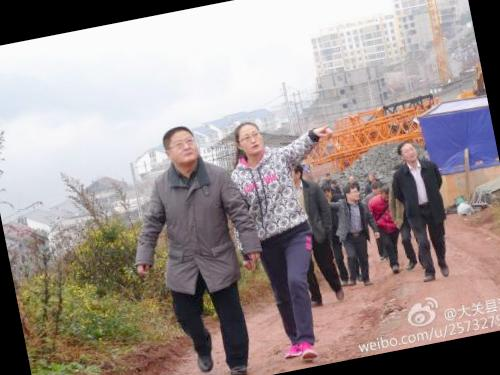no_helmet: (156, 118, 206, 177), (229, 114, 271, 164), (394, 136, 422, 163), (341, 180, 362, 205), (377, 182, 395, 202)
